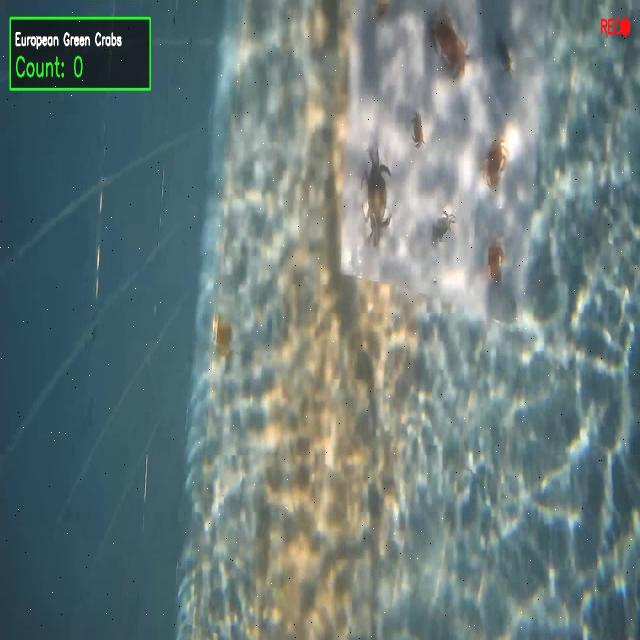European_Green_Crab: (358, 131, 391, 258), (426, 199, 458, 247), (490, 29, 516, 81)
